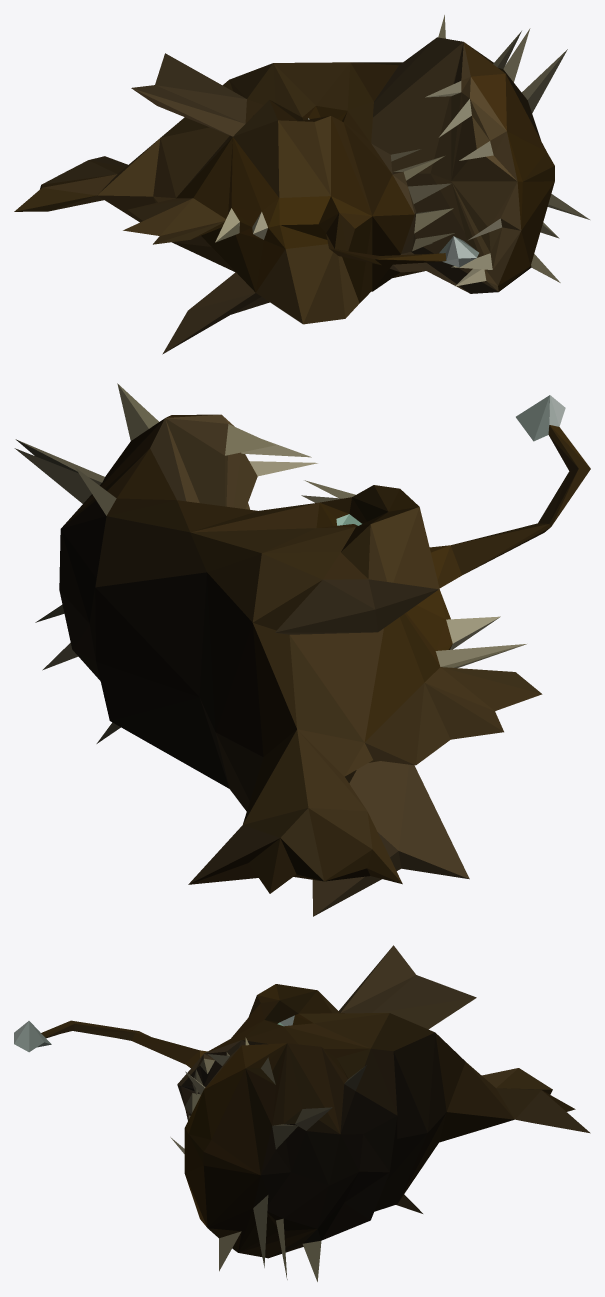
Rendered from anglerfish.obj.
3 renders of one model, top to bottom at view 1: azimuth 30°, elevation 25°; view 2: azimuth 150°, elevation 25°; view 3: azimuth 270°, elevation 25°, orthographic. The views are drawn at different scales.
Parts seen in each view (by area): view 1: Item Anglerfish 2026-09-13_16-42-11; view 2: Item Anglerfish 2026-09-13_16-42-11; view 3: Item Anglerfish 2026-09-13_16-42-11.
Part boxes in pixels (x1,y1,x2,y2): Item Anglerfish 2026-09-13_16-42-11: (14,15,589,354); Item Anglerfish 2026-09-13_16-42-11: (14,383,590,916); Item Anglerfish 2026-09-13_16-42-11: (14,945,590,1281).
Bounding box in the file's own units: 117 × 76 × 152.
